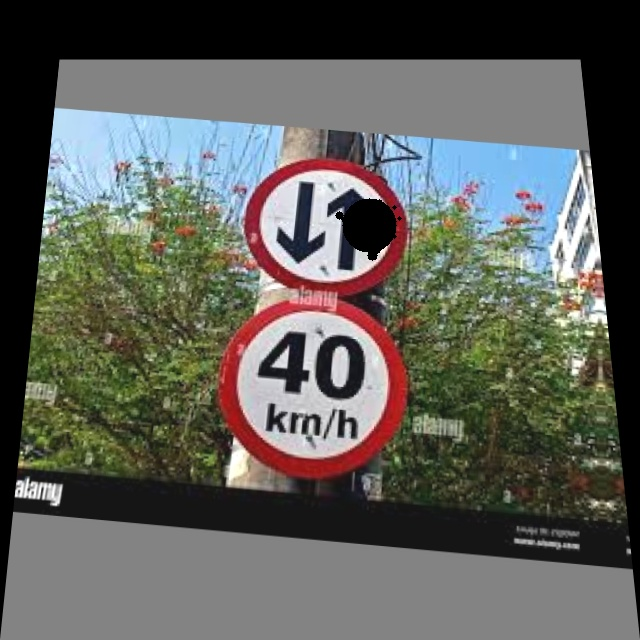Mandatory_Two_Way_Traffic: (239, 155, 413, 296)
